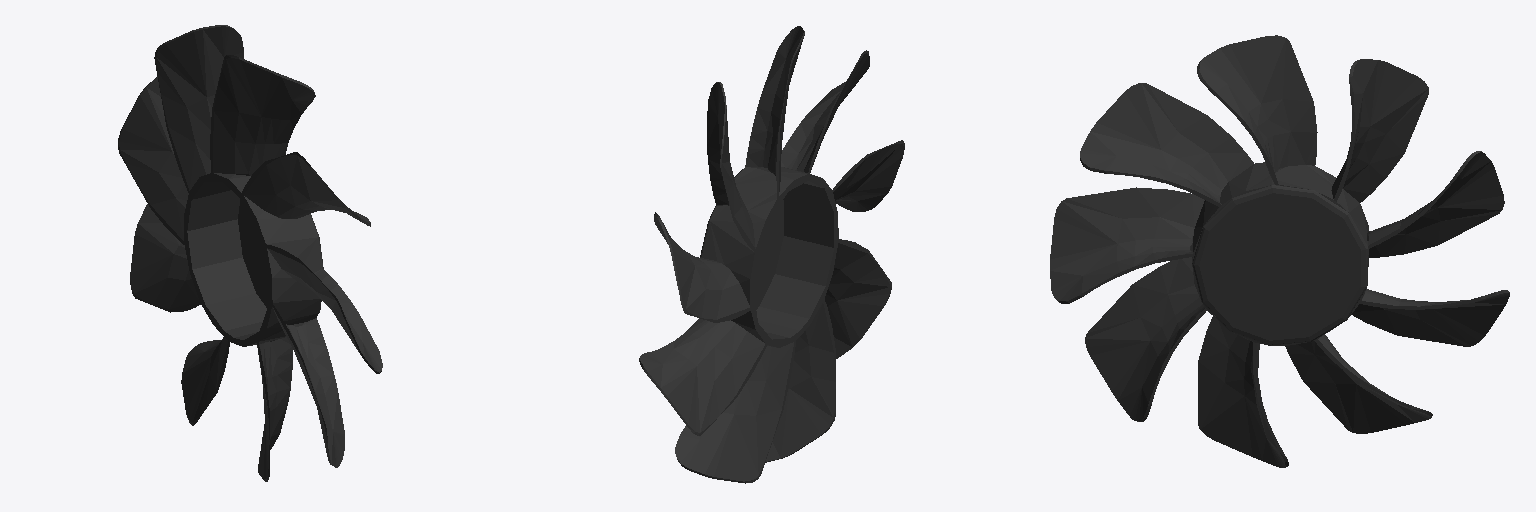
The model's file is CW1_RFan.obj.
3 renders of one model, left to right at view 1: azimuth 30°, elevation 25°; view 2: azimuth 150°, elevation 25°; view 3: azimuth 270°, elevation 25°, orthographic.
Parts seen in each view (by area): view 1: CW1S_MODEL; view 2: CW1S_MODEL; view 3: CW1S_MODEL.
Part boxes in pixels (bbox=[...]): CW1S_MODEL: bbox=[118, 25, 382, 481]; CW1S_MODEL: bbox=[639, 26, 904, 483]; CW1S_MODEL: bbox=[1050, 35, 1509, 467].
Bounding box in the file's own units: 7.5 × 55.38 × 55.27.